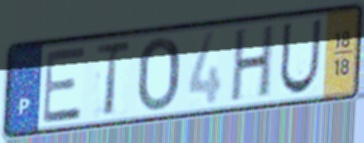4: (186, 29, 224, 107)
E: (41, 44, 87, 127)
H: (228, 21, 278, 106)
O: (136, 34, 183, 114)
T: (93, 38, 133, 120)
U: (277, 17, 324, 97)
